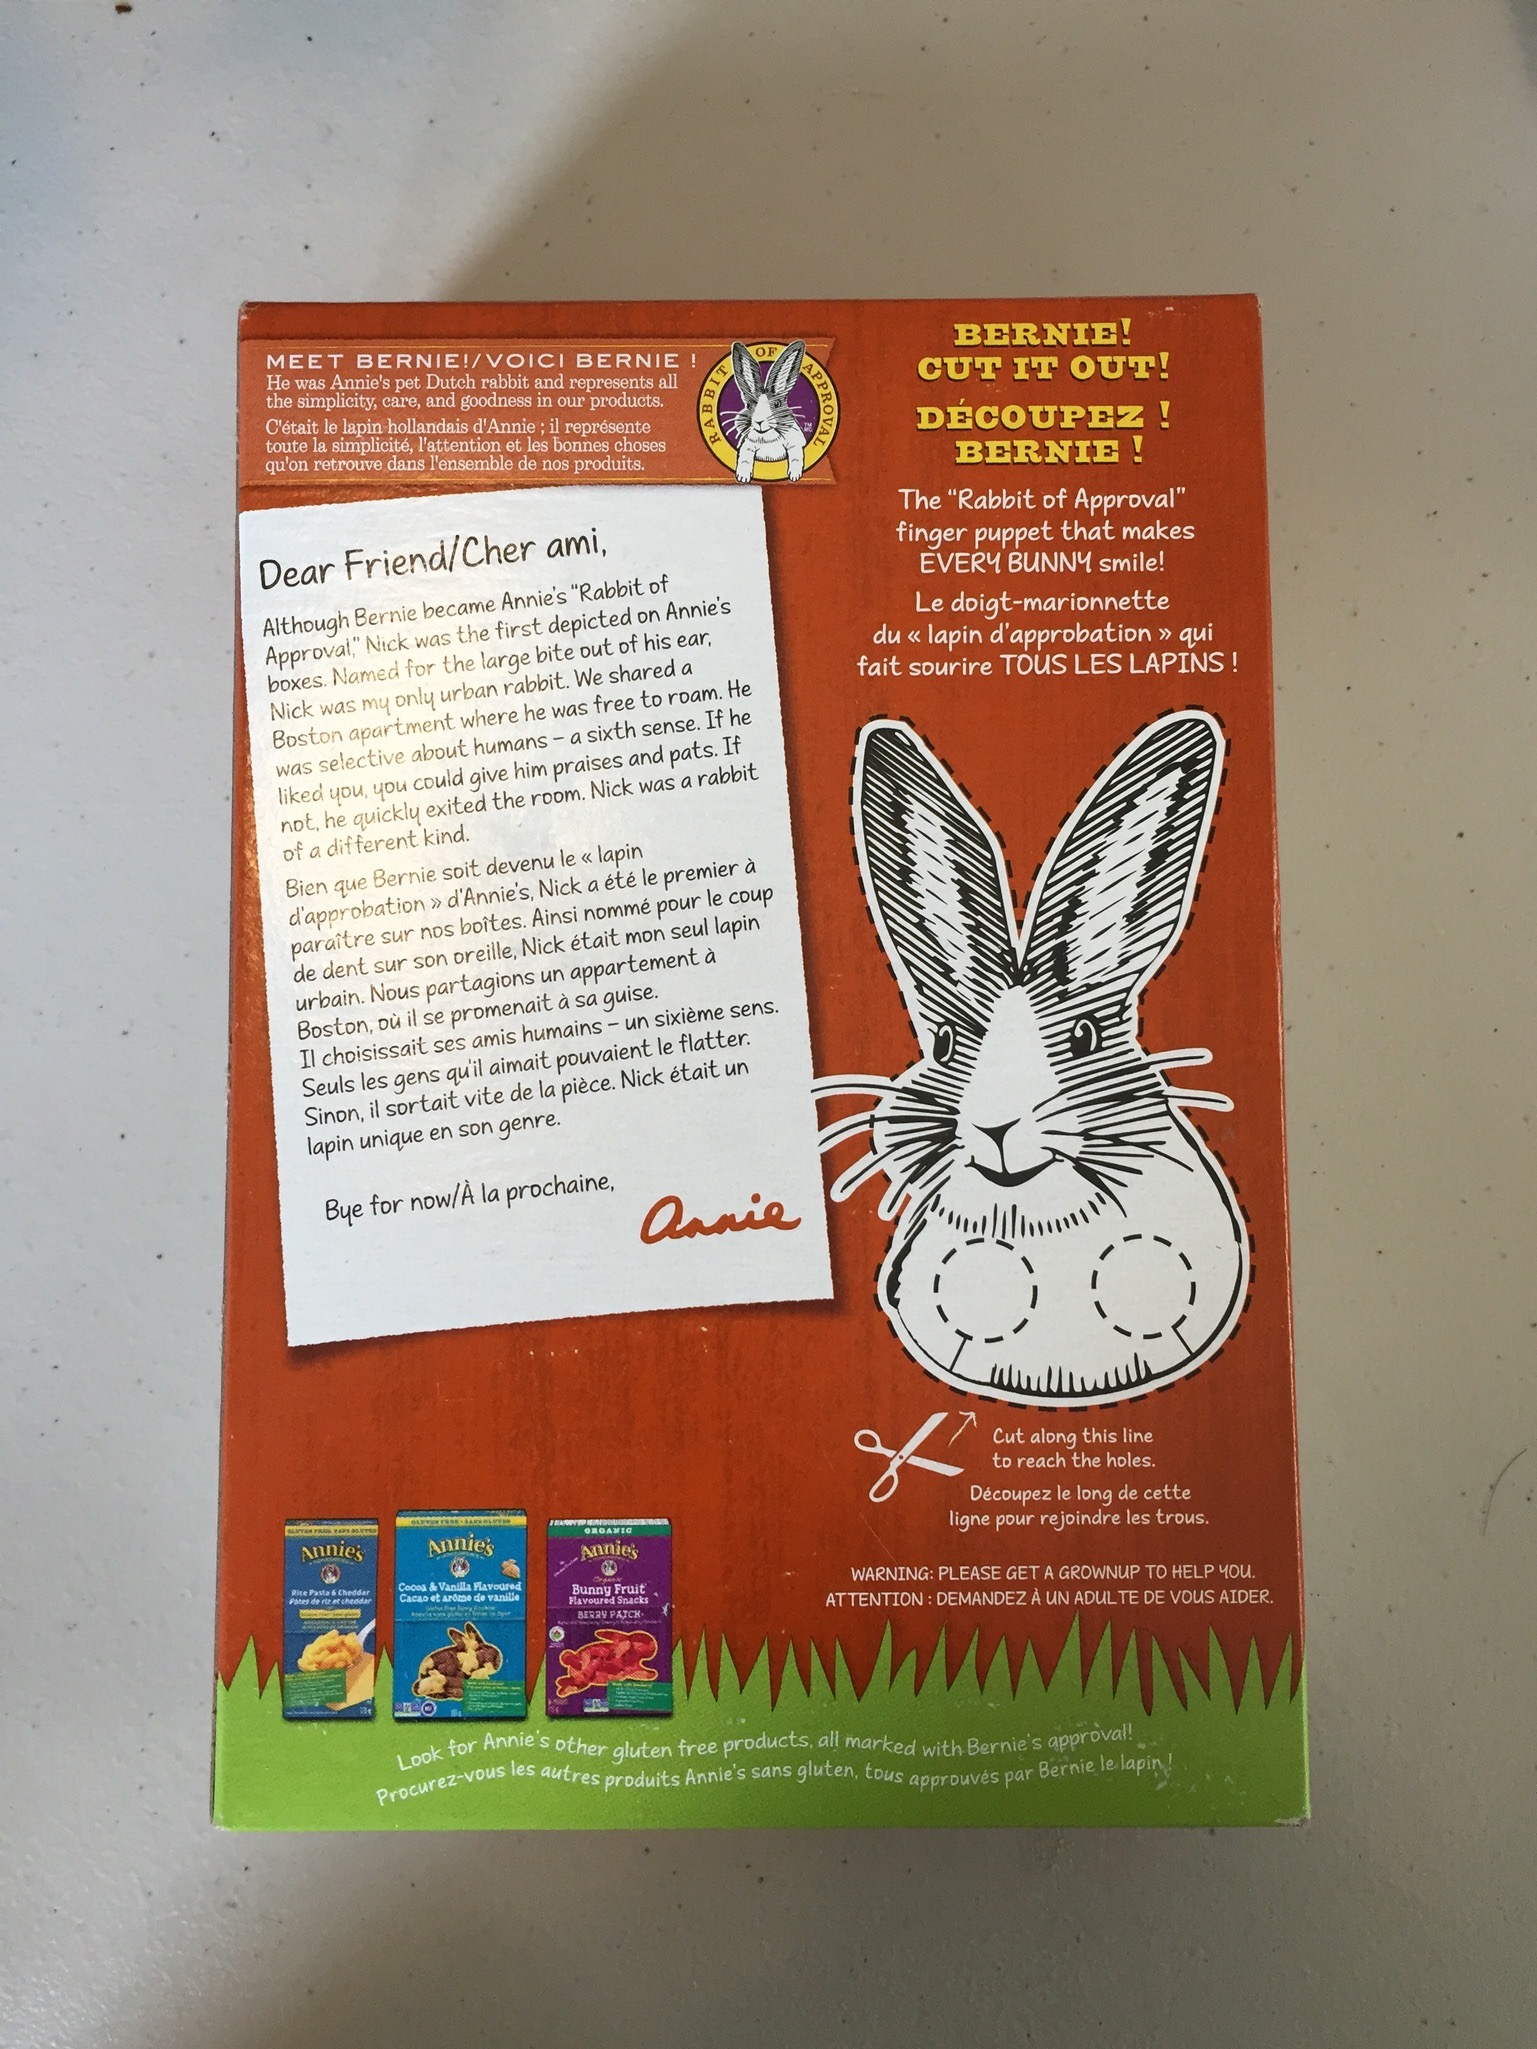annies_snickerdoodles_cinnamon_sugar: (257, 316, 1266, 1797)
